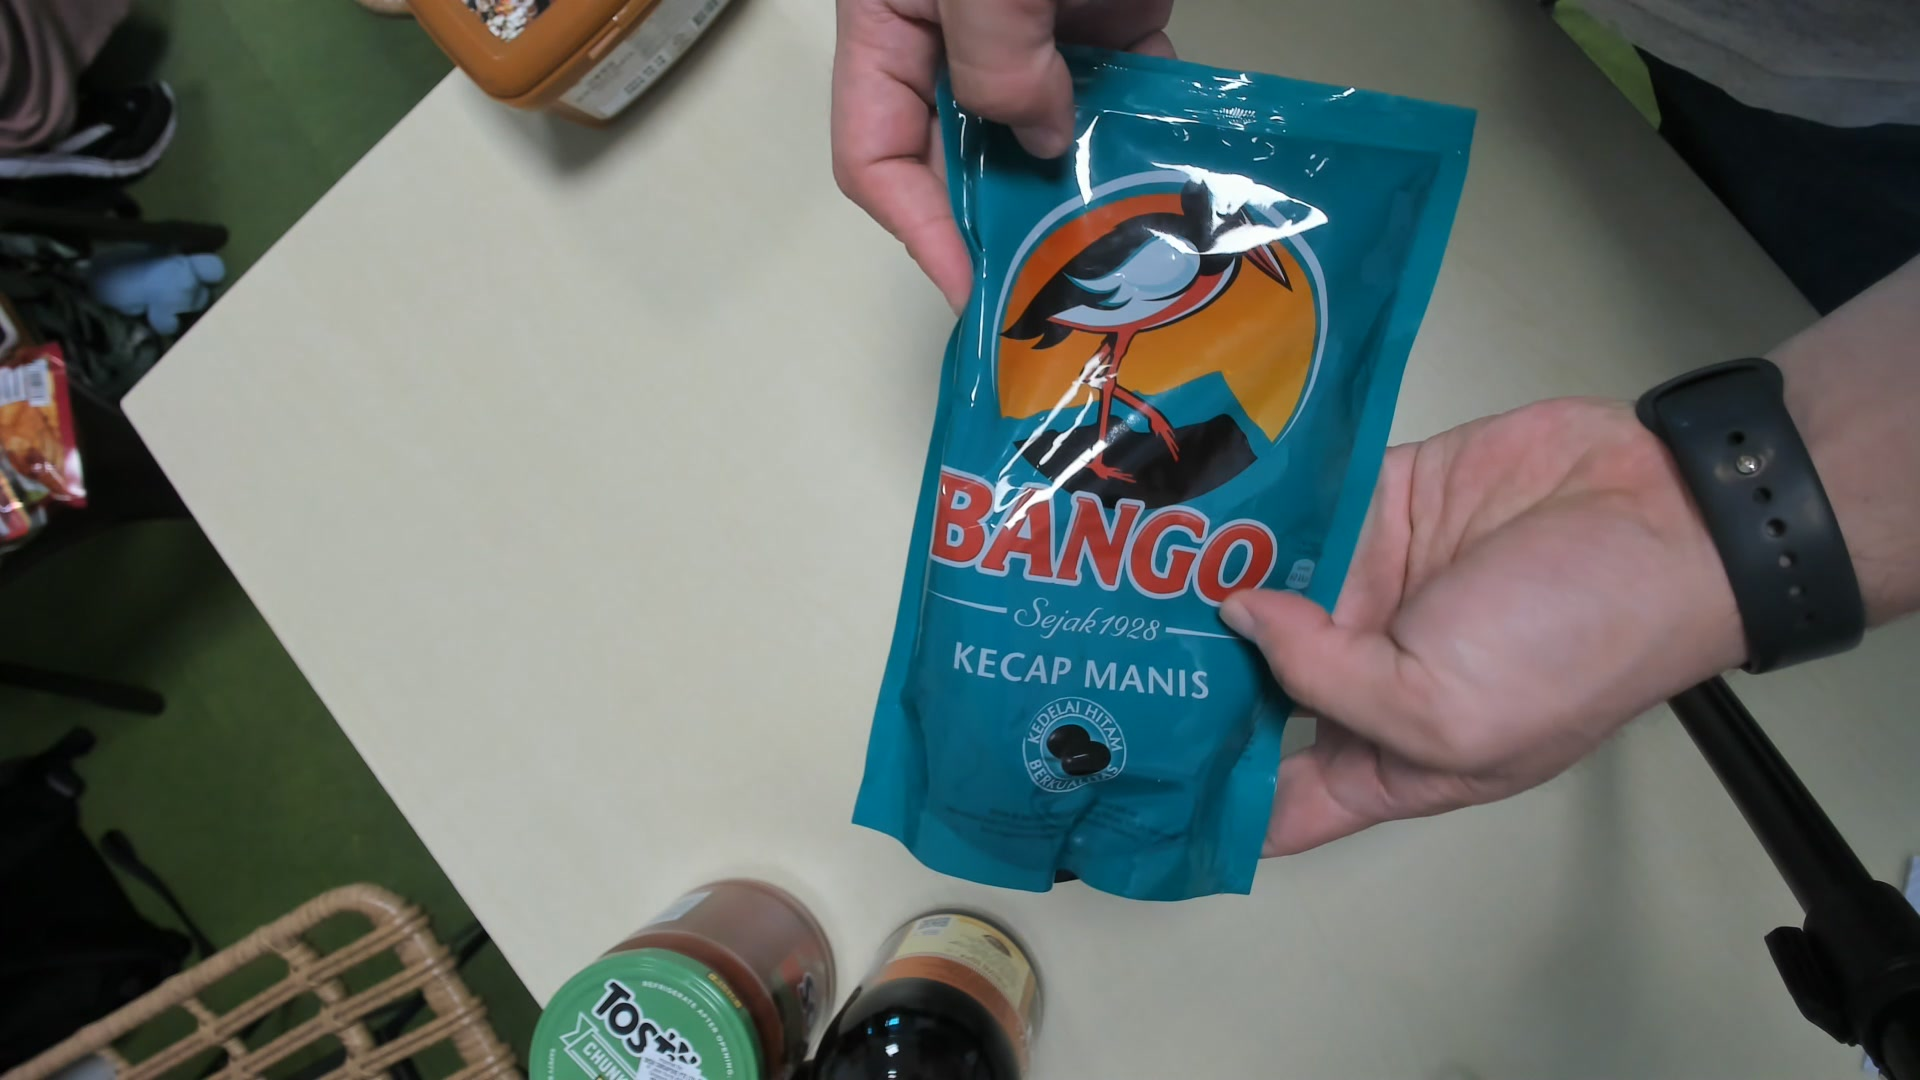OtherSauceDressing_500-599g_NonHalal_NonHealthy: (866, 65, 1476, 909)
